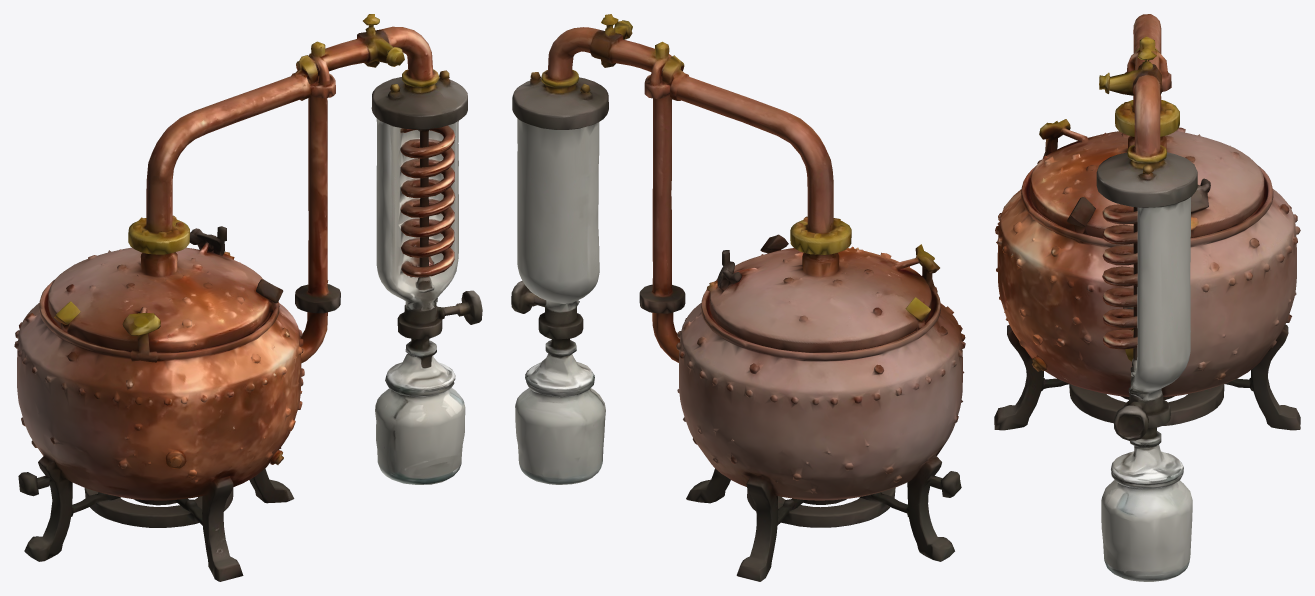
File: still.glb
3 renders of one model, left to right at view 1: azimuth 30°, elevation 25°; view 2: azimuth 150°, elevation 25°; view 3: azimuth 270°, elevation 25°, orthographic. The views are drawn at different scales.
Parts seen in each view (by area): view 1: tripo_node_55c67a3c-0b86-40c2-bd30-a1a6d89c2799; view 2: tripo_node_55c67a3c-0b86-40c2-bd30-a1a6d89c2799; view 3: tripo_node_55c67a3c-0b86-40c2-bd30-a1a6d89c2799.
Boxes of the visible parts, bbox=[...] form: tripo_node_55c67a3c-0b86-40c2-bd30-a1a6d89c2799: bbox=[14, 14, 482, 581]; tripo_node_55c67a3c-0b86-40c2-bd30-a1a6d89c2799: bbox=[511, 14, 965, 581]; tripo_node_55c67a3c-0b86-40c2-bd30-a1a6d89c2799: bbox=[994, 14, 1300, 581].
Size of the model in its own units: 1 by 0.9998 by 0.5644.
1 material, 1 textured.
